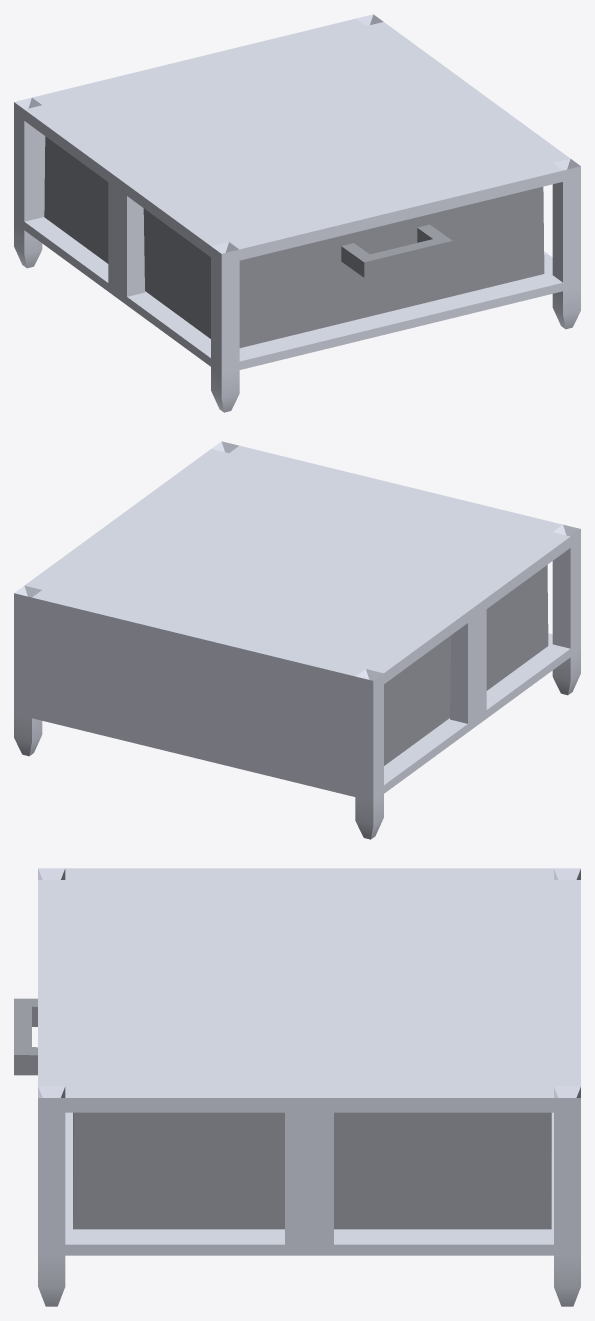
File: stackables.fbx
3 views of the same model, one above another, from view 1: azimuth 30°, elevation 25°; view 2: azimuth 150°, elevation 25°; view 3: azimuth 270°, elevation 25° (orthographic). The views are drawn at different scales.
Visible parts, largest first — view 1: pCube3; view 2: pCube3; view 3: pCube3.
Part boxes in pixels (x1,y1,x2,y2): pCube3: [14, 14, 580, 412]; pCube3: [14, 441, 580, 839]; pCube3: [14, 868, 580, 1306].
Size of the model in its own units: 9.24 by 3.99 by 9.65.
